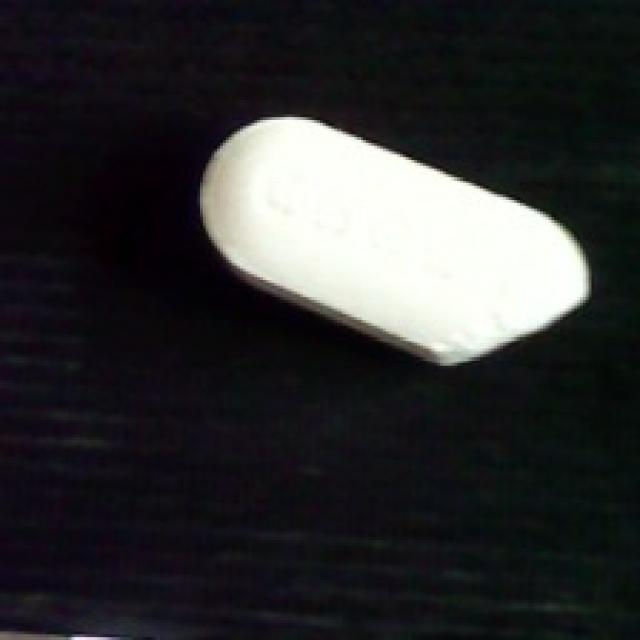defected: (192, 114, 592, 374)
